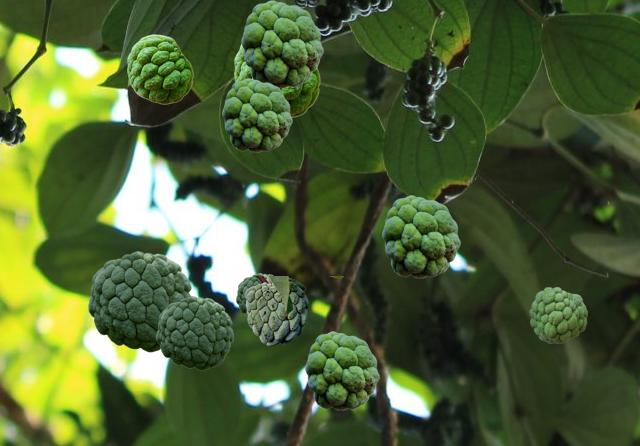atis: (88, 251, 192, 351), (241, 0, 322, 87), (244, 276, 342, 345), (382, 195, 459, 277), (234, 44, 319, 118), (305, 331, 378, 409), (156, 296, 232, 369), (222, 78, 291, 151), (127, 34, 192, 103), (529, 287, 586, 342), (236, 273, 273, 316)
